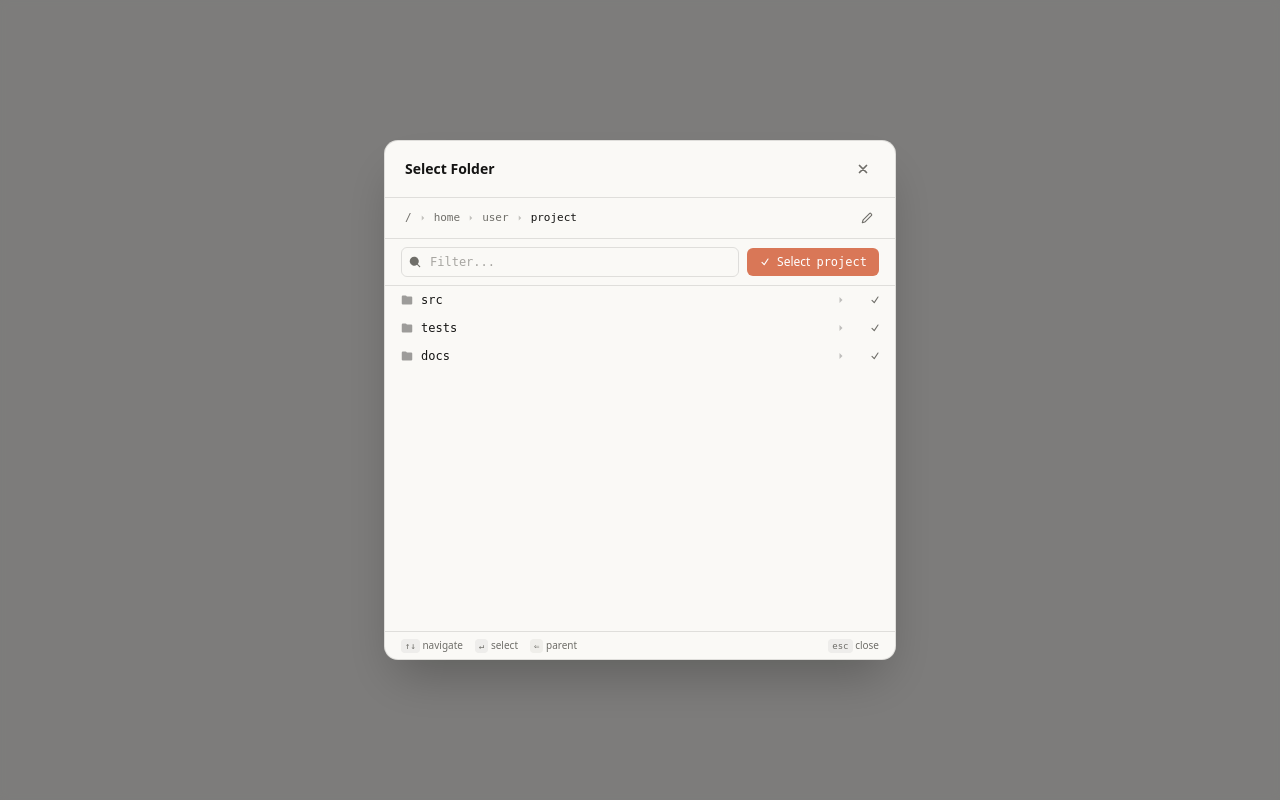
Test case: FolderPicker › shows 'No matching directories' with clear button when filter has no results
The image size is (1280, 800).
Expected: the text "src" is shown, [421,292,443,308]
Type "zzzzz" into the field named "Filter directories" at point(570, 262), box [401,247,739,277]
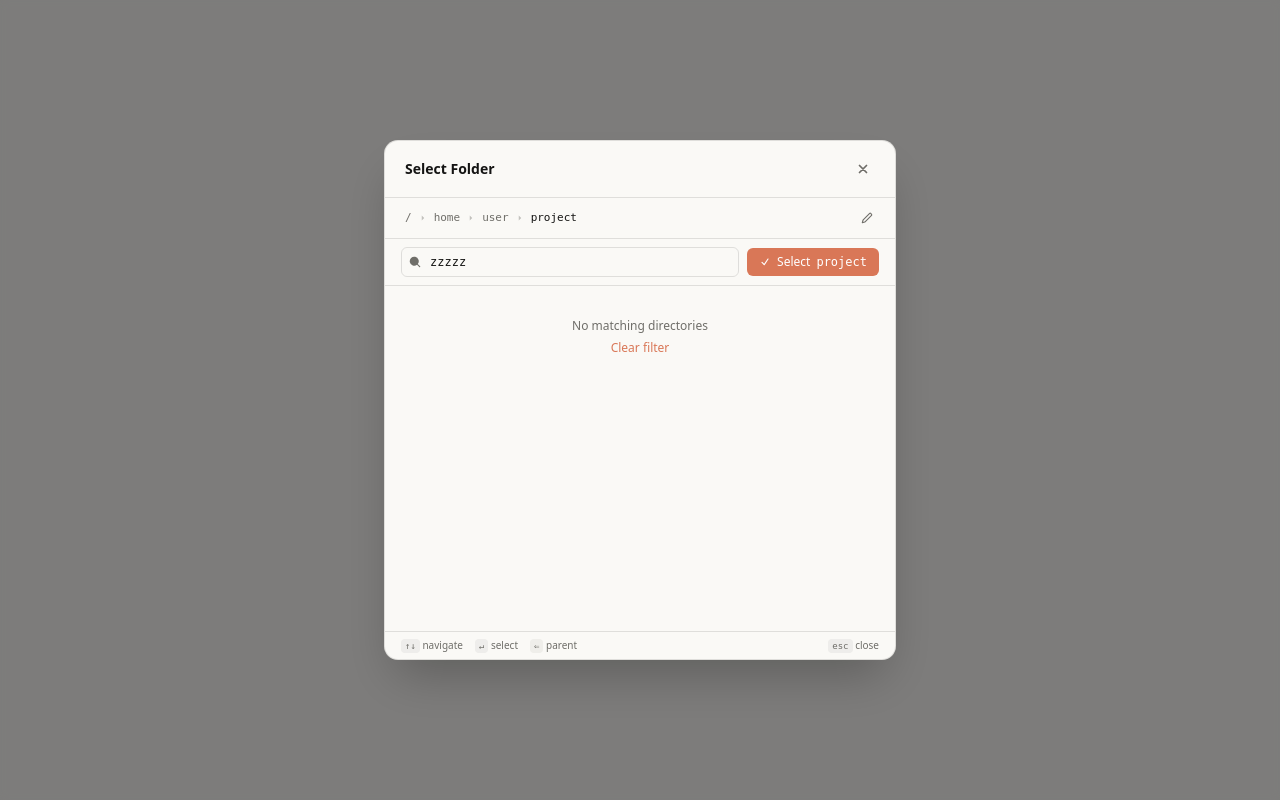
Now the text "No matching directories" is shown, box [572,317,708,334]
Now the button "Clear filter" is shown, box [611,340,669,356]
